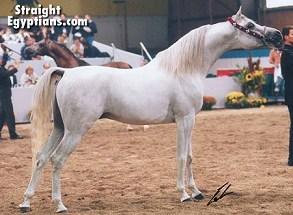horse: (17, 5, 284, 213)
